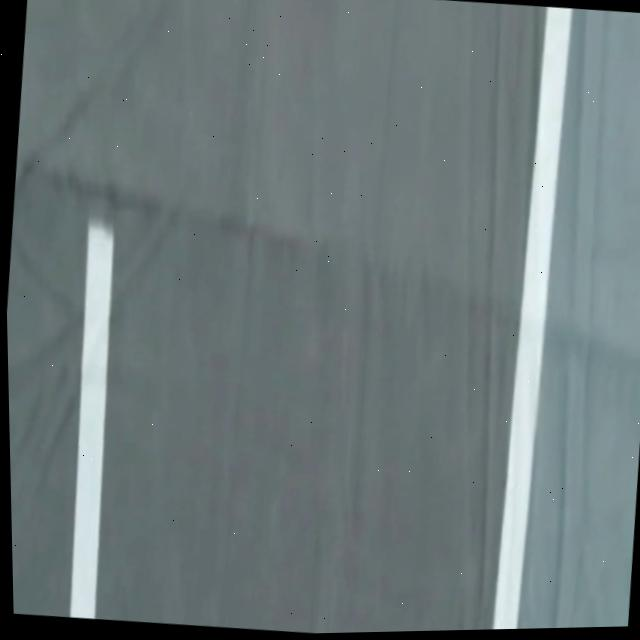center: (69, 216, 114, 619)
left: (494, 6, 573, 629)
